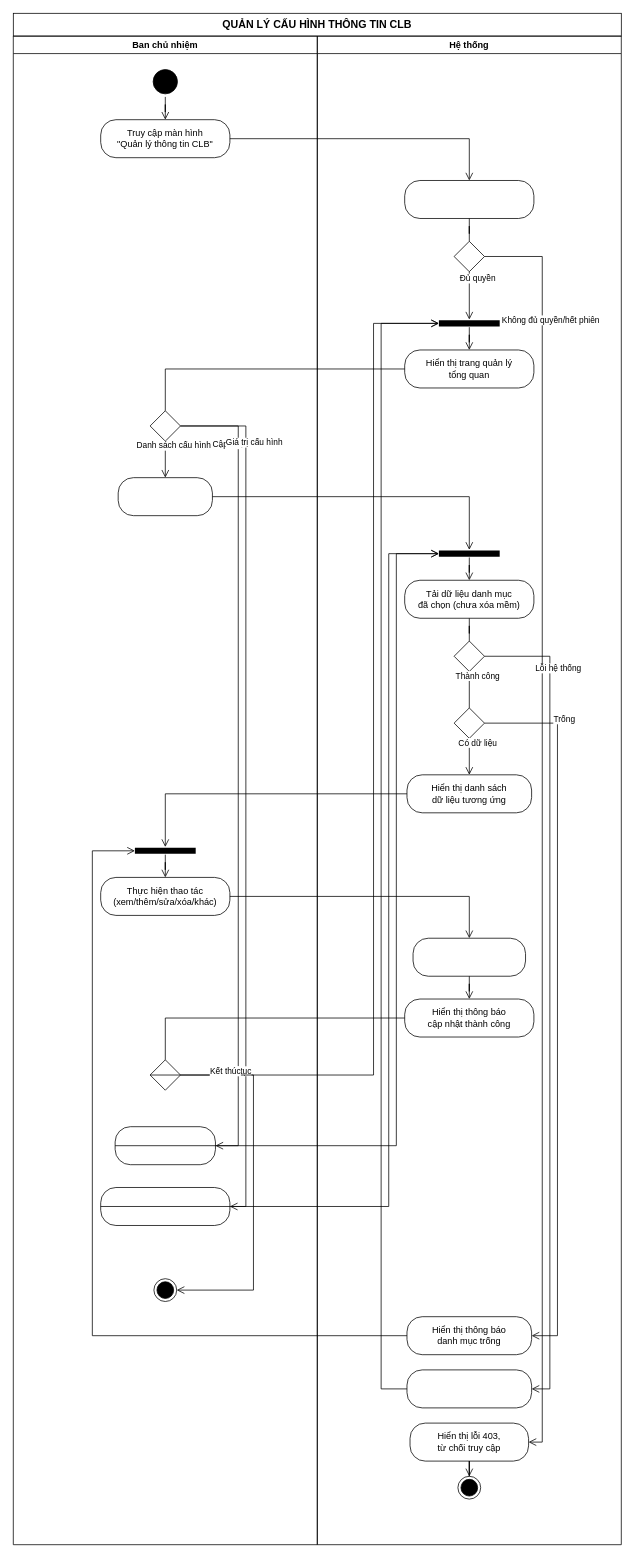
Some shapes in this 635 by 1558 pixel diagram are drawn without their labels. Here are the shapes that lost their labels. From the top down, the box of each, then its label:
(404, 180, 534, 218): Kiểm tra phiên đăng nhập và quyền quản lý
(117, 477, 212, 516): Xem danh sách cấu hình CLB
(412, 937, 526, 976): Cập nhật dữ liệu tương ứng
(114, 1126, 215, 1165): Cập nhật slug/ mô tả cấu hình
(100, 1187, 230, 1226): Thêm/xem/sửa giá trị cấu hình, đặt mặc định
(406, 1369, 532, 1408): Hiển thị thông báo lỗi tải dữ liệu
